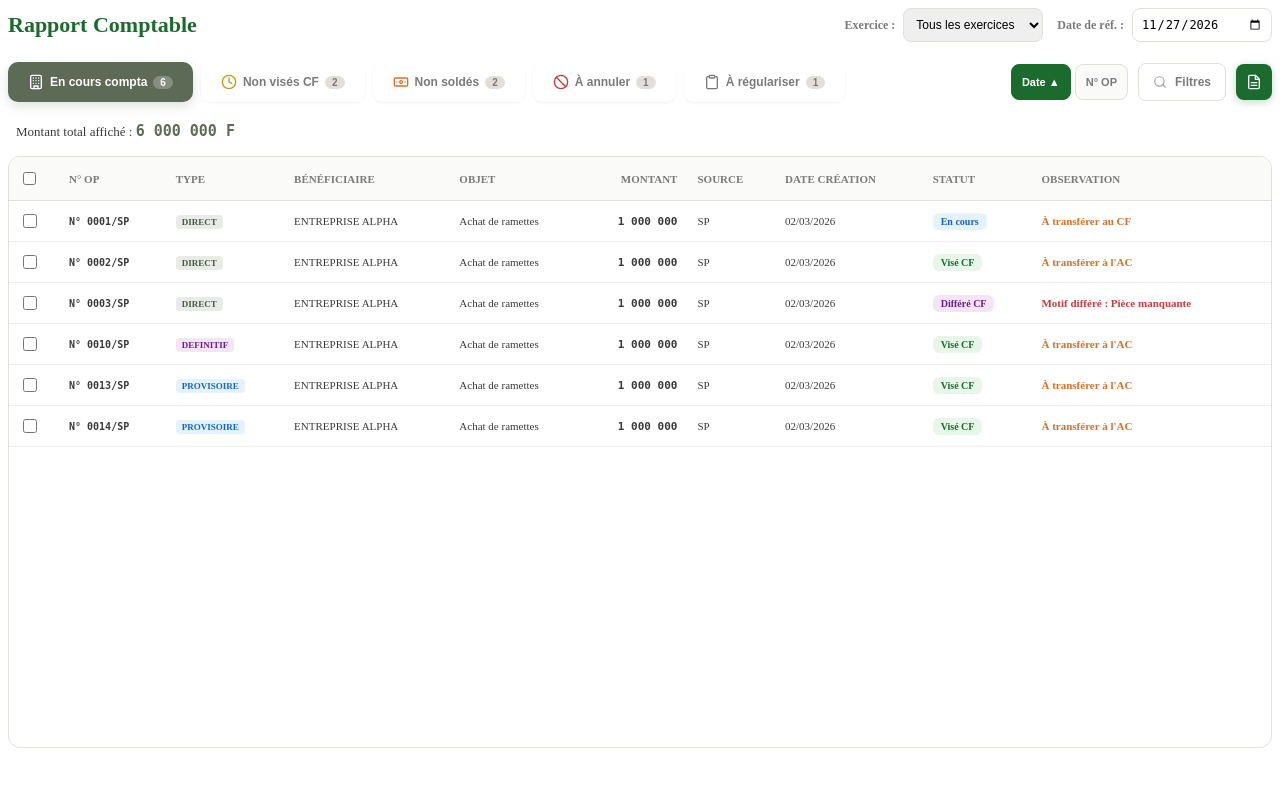
Test case: Rapport — Non visés CF › le délai est compté en jours ouvrés depuis la transmission
In the date field: [1202, 25] box [1132,8,1272,42], type "2026-03-23"
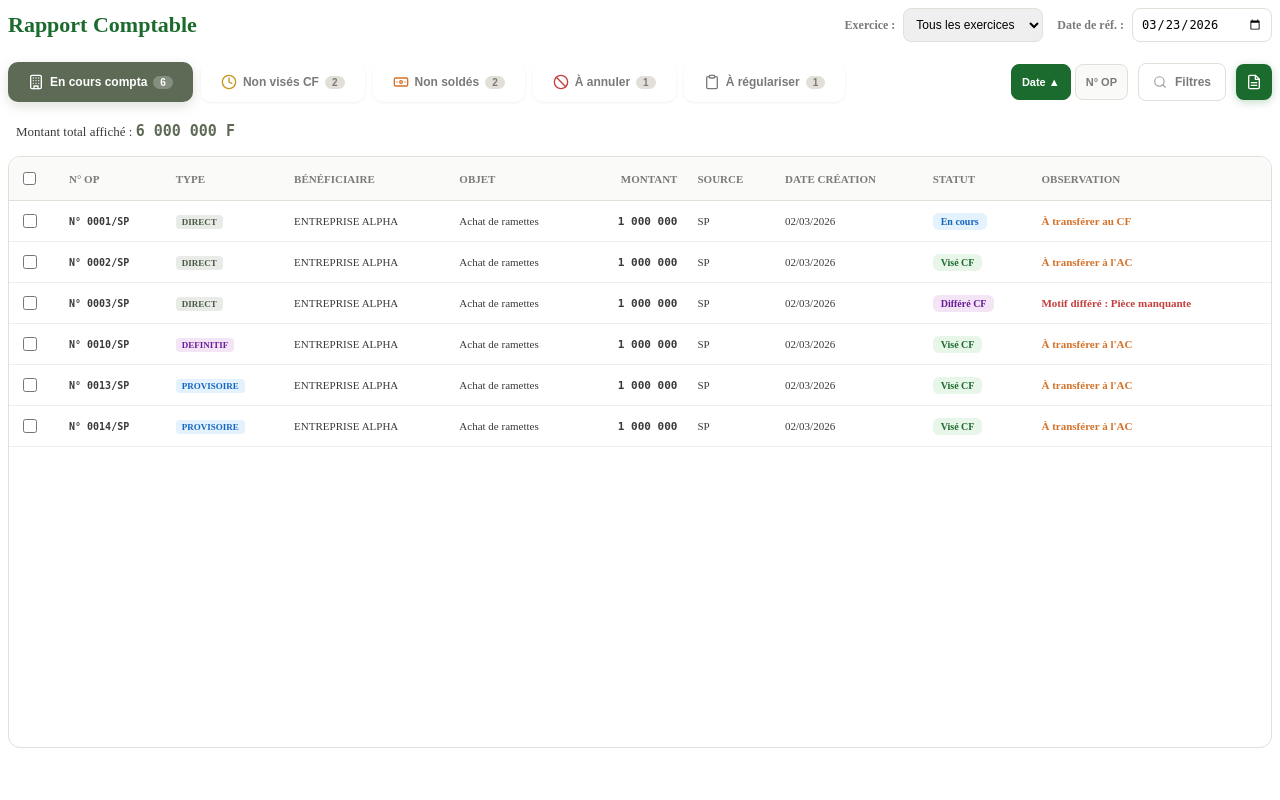
Click the button "Non visés CF 2": [283, 82] box [201,62,364,102]
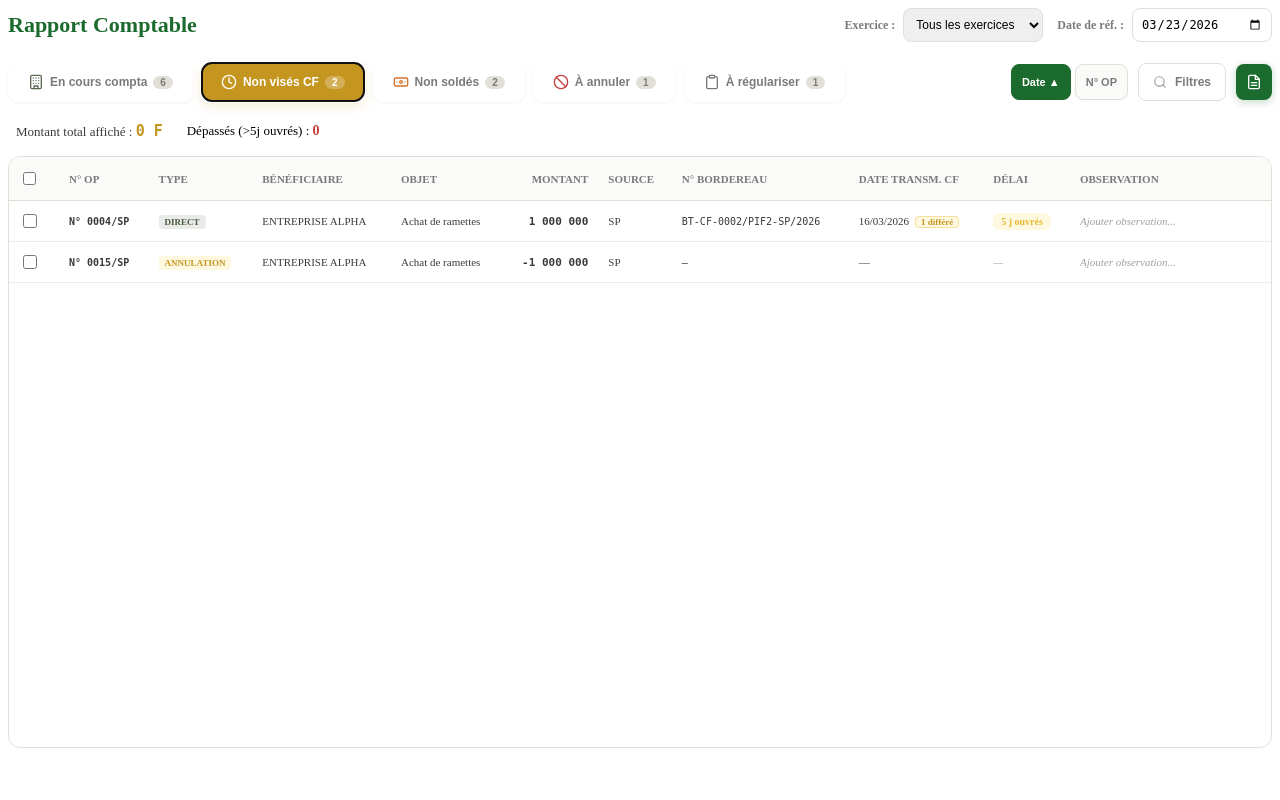
Result: the text "5 j ouvrés" is shown at [993,213,1051,230]
